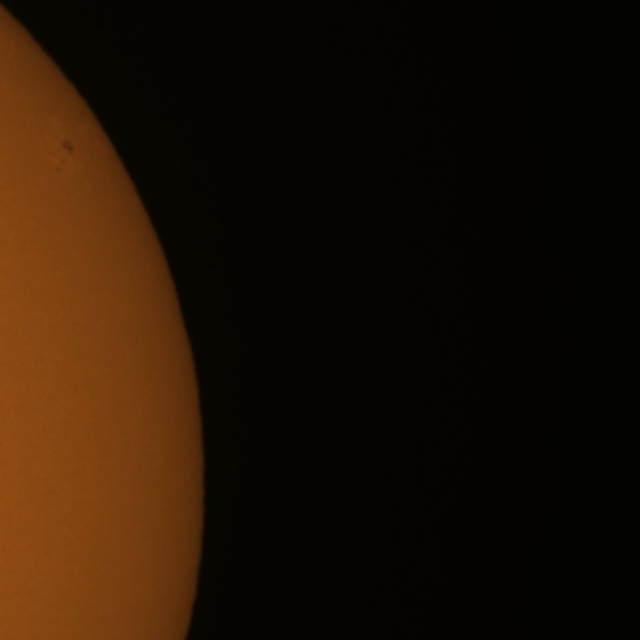sunspot: (51, 139, 75, 176), (59, 137, 77, 160)
